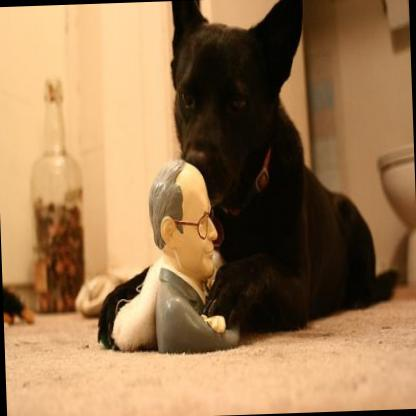schipperke: (79, 0, 403, 344)
